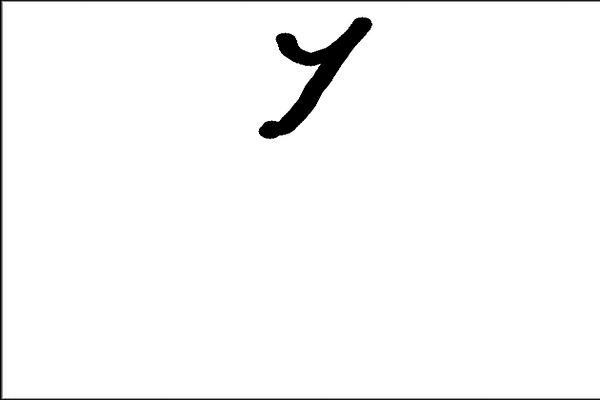Y: (245, 13, 375, 148)
